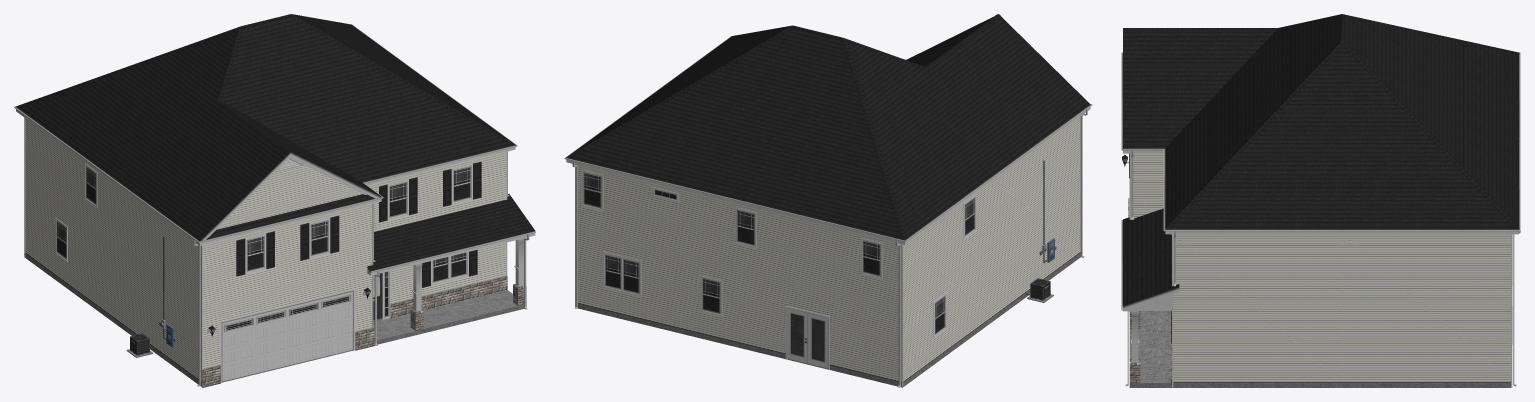
Rendered from house20_mirror2.fbx.
3 renders of one model, left to right at view 1: azimuth 30°, elevation 25°; view 2: azimuth 150°, elevation 25°; view 3: azimuth 270°, elevation 25°, orthographic. The views are drawn at different scales.
Visible parts, largest first — view 1: house20_mirror2_LOD0; view 2: house20_mirror2_LOD0; view 3: house20_mirror2_LOD0.
Boxes of the visible parts, left/top/right/bottom form: house20_mirror2_LOD0: left=14, top=14, right=535, bottom=387; house20_mirror2_LOD0: left=564, top=14, right=1092, bottom=387; house20_mirror2_LOD0: left=1121, top=14, right=1520, bottom=387.
Size of what is drawn, in the model's own units: 4.11 by 2.86 by 3.76.
